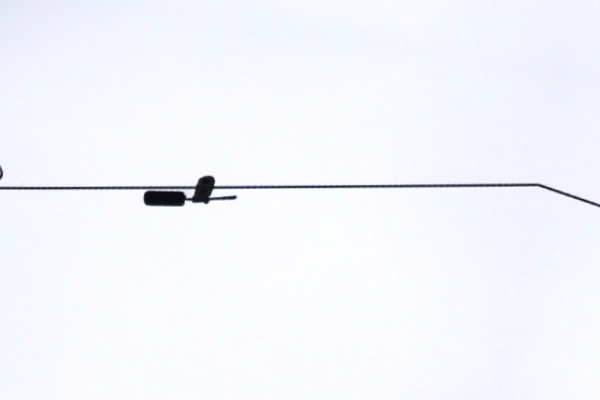damper_defect: (139, 173, 240, 209)
